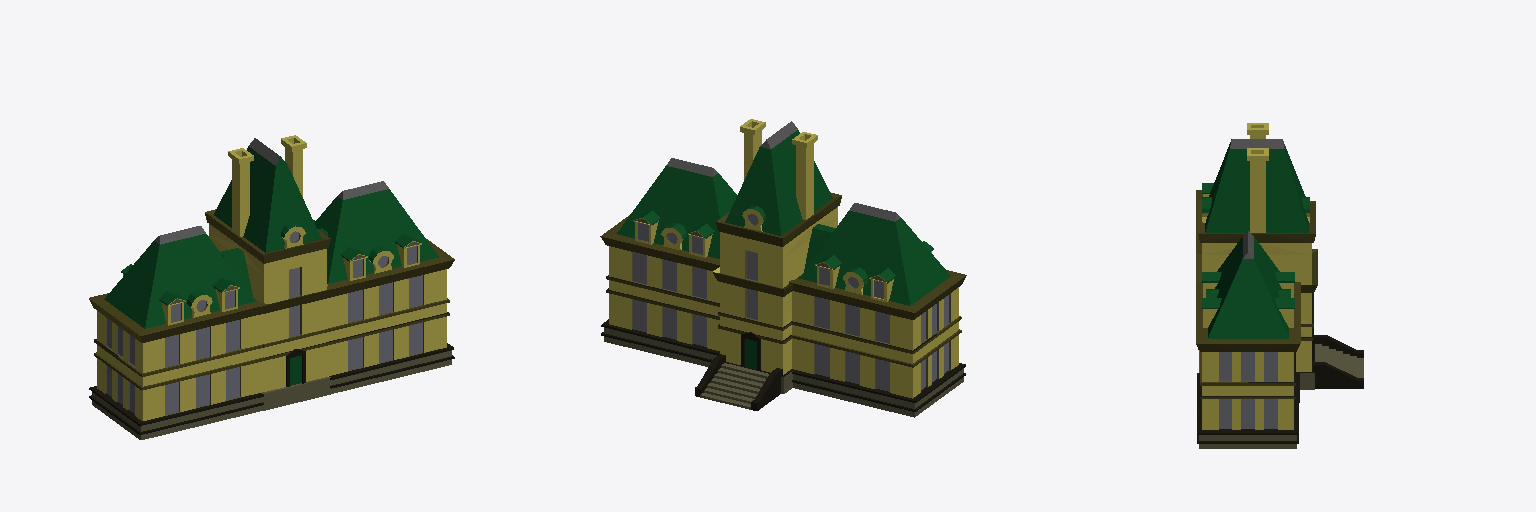
File: SM_Palace.obj
The picture shows the model from 3 angles: view 1: azimuth 30°, elevation 25°; view 2: azimuth 150°, elevation 25°; view 3: azimuth 270°, elevation 25°; orthographic projection.
Parts seen in each view (by area): view 1: SM_Palace; view 2: SM_Palace; view 3: SM_Palace.
Boxes of the visible parts, x1=… form: SM_Palace: x1=89, y1=135, x2=454, y2=439; SM_Palace: x1=600, y1=119, x2=966, y2=417; SM_Palace: x1=1196, y1=123, x2=1363, y2=448.
Bounding box in the file's own units: 52.39 × 37.33 × 24.2.